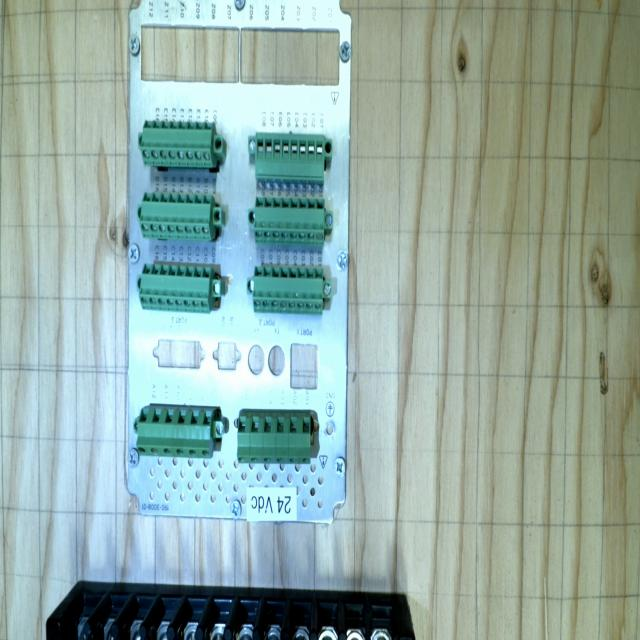Terminal_1: (237, 411, 311, 464), (136, 408, 213, 458)
Terminal_2: (138, 263, 213, 314), (139, 192, 213, 240), (252, 266, 324, 315), (253, 197, 325, 246), (140, 120, 214, 167)
